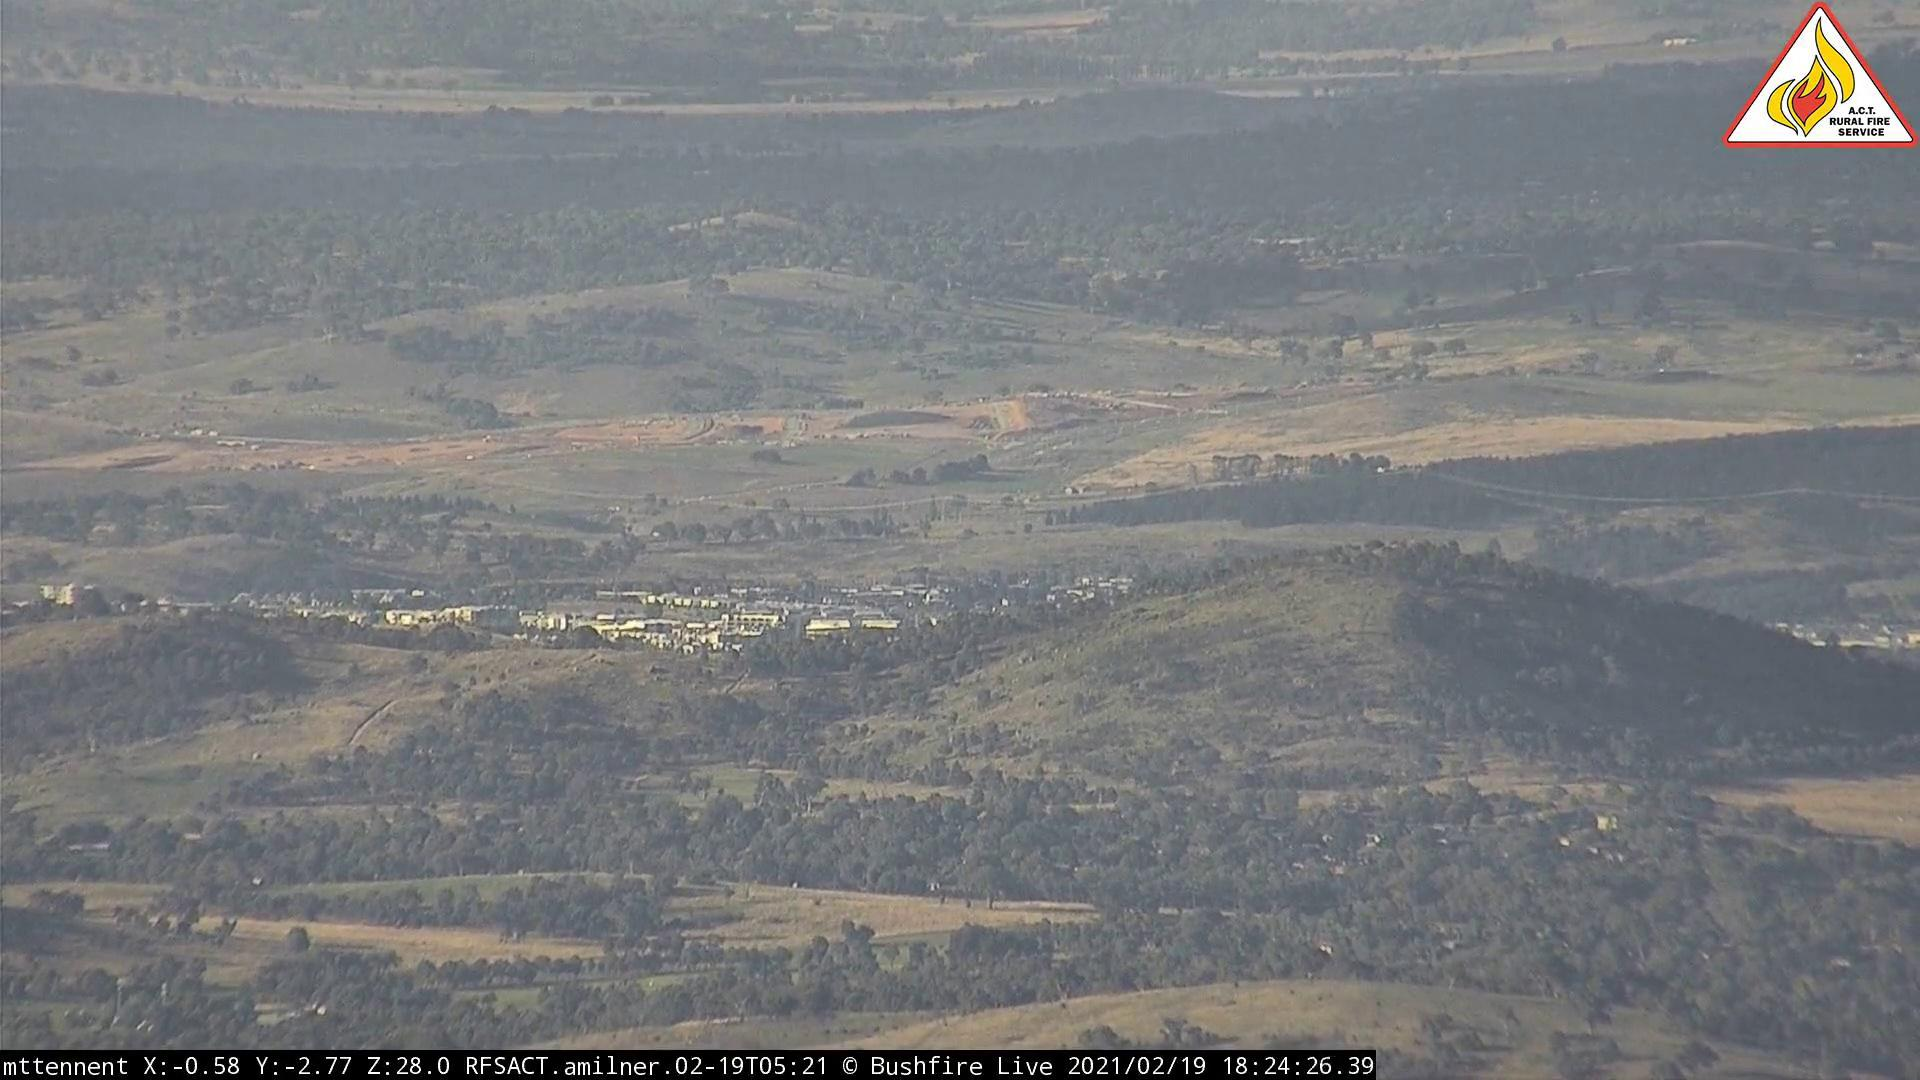Smoke: (634, 522, 675, 549)
